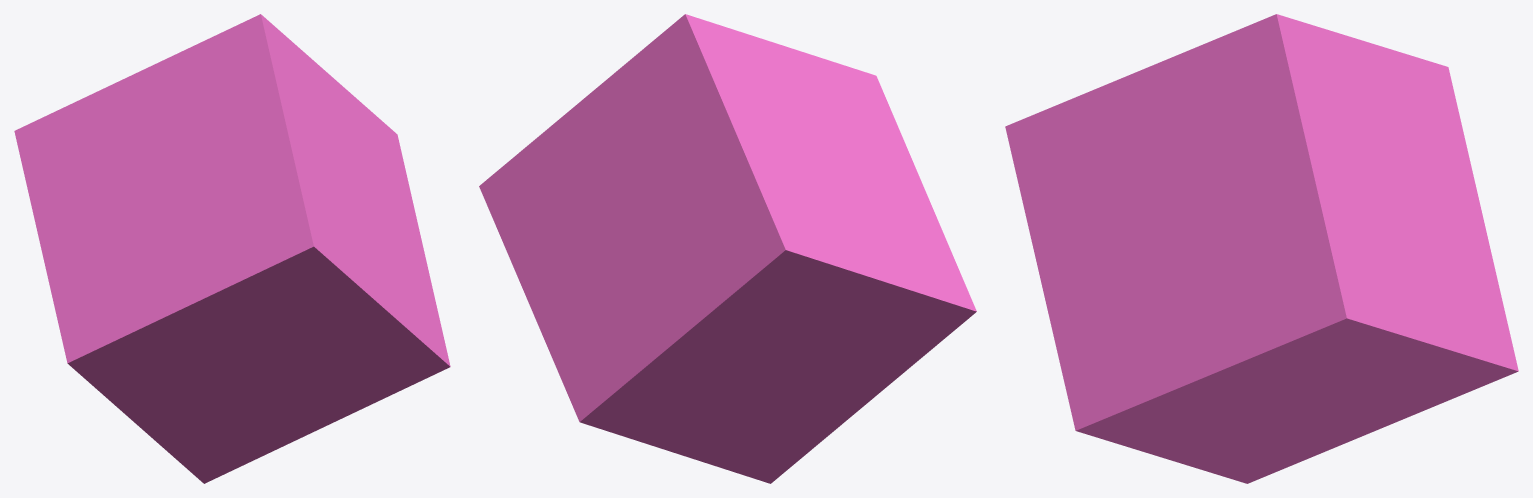
The model's file is InfoExpo_ReligionCatodica.gltf.
The picture shows the model from 3 angles, left to right: view 1: azimuth 30°, elevation 25°; view 2: azimuth 150°, elevation 25°; view 3: azimuth 270°, elevation 25°; orthographic projection. The views are drawn at different scales.
Parts seen in each view (by area): view 1: InfoExpo_ReligionCatodica; view 2: InfoExpo_ReligionCatodica; view 3: InfoExpo_ReligionCatodica.
Boxes of the visible parts, bbox=[...] form: InfoExpo_ReligionCatodica: bbox=[14, 14, 450, 483]; InfoExpo_ReligionCatodica: bbox=[479, 14, 976, 483]; InfoExpo_ReligionCatodica: bbox=[1005, 14, 1518, 483].
Size of the model in its own units: 0.3489 by 0.3661 by 0.335.
